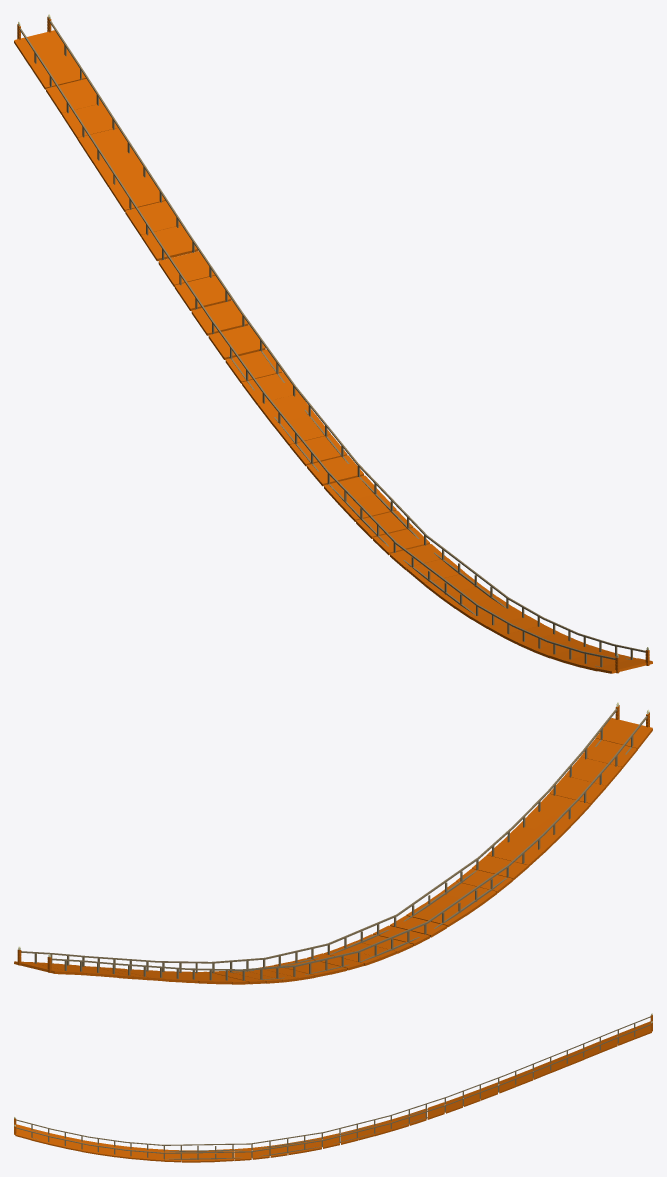
File: longBridge3.fbx
3 renders of one model, top to bottom at view 1: azimuth 30°, elevation 25°; view 2: azimuth 150°, elevation 25°; view 3: azimuth 270°, elevation 25°, orthographic. The views are drawn at different scales.
Visible parts, largest first — view 1: group2; view 2: group2; view 3: group2.
Boxes of the visible parts, x1,y1,x2,y2 form: group2: (14, 14, 652, 673); group2: (14, 702, 652, 984); group2: (14, 1013, 652, 1162).
Bounding box in the file's own units: 3.33 × 20.03 × 83.02.
